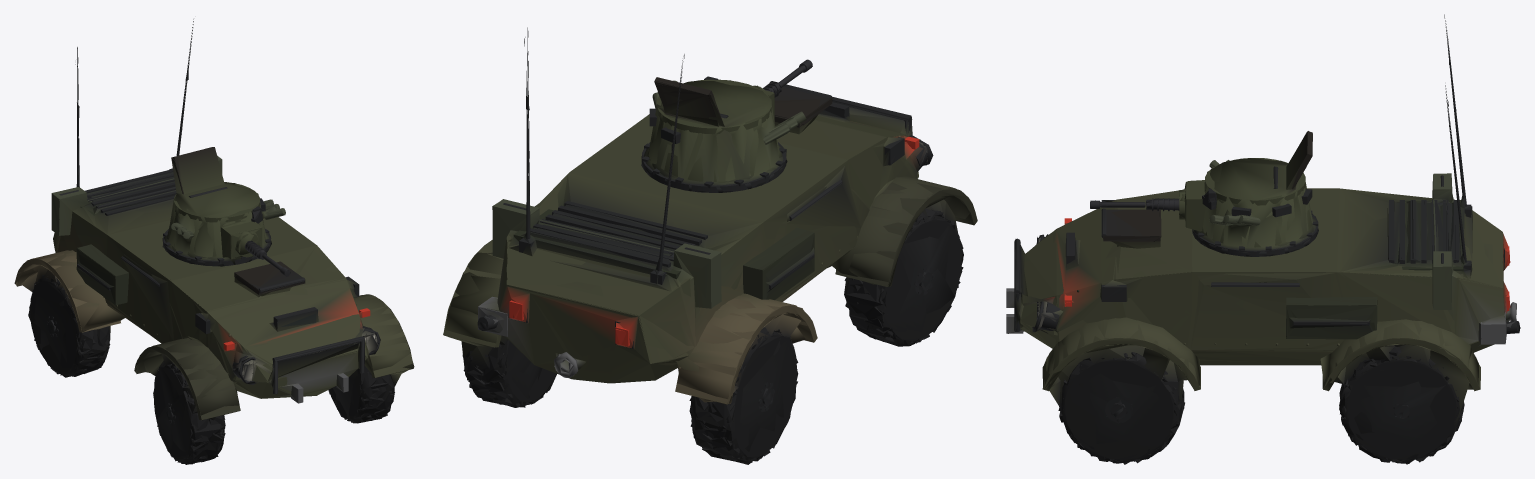
Rendered from ferret.glb.
The picture shows the model from 3 angles, left to right: view 1: azimuth 30°, elevation 25°; view 2: azimuth 150°, elevation 25°; view 3: azimuth 270°, elevation 25°; orthographic projection. The views are drawn at different scales.
Parts seen in each view (by area): view 1: L1_04_hull_opaque, L2_06_hull_opaque, L0_01_hull_opaque, L1_05_turret_opaque, L2_07_turret_opaque, L0_02_turret_opaque; view 2: L1_04_hull_opaque, L2_06_hull_opaque, L0_01_hull_opaque, L1_05_turret_opaque, L0_02_turret_opaque, L2_07_turret_opaque; view 3: L2_06_hull_opaque, L1_04_hull_opaque, L0_01_hull_opaque, L1_05_turret_opaque, L2_07_turret_opaque, L0_02_turret_opaque.
Part boxes in pixels (x1,y1,x2,y2): L1_04_hull_opaque: (15,42,413,464); L2_06_hull_opaque: (17,64,414,464); L0_01_hull_opaque: (14,19,413,463); L1_05_turret_opaque: (76,147,286,305); L2_07_turret_opaque: (77,157,271,302); L0_02_turret_opaque: (76,147,290,290); L1_04_hull_opaque: (444,51,973,464); L2_06_hull_opaque: (447,37,969,461); L0_01_hull_opaque: (443,27,977,462); L1_05_turret_opaque: (641,61,814,300); L0_02_turret_opaque: (535,59,814,299); L2_07_turret_opaque: (641,83,814,299); L2_06_hull_opaque: (1020,101,1503,463); L1_04_hull_opaque: (1006,14,1520,463); L0_01_hull_opaque: (1006,20,1519,464); L1_05_turret_opaque: (1090,131,1377,339); L2_07_turret_opaque: (1192,132,1377,337); L0_02_turret_opaque: (1090,131,1376,338).
Size of the model in its own units: 2.27 by 3.13 by 4.04.
